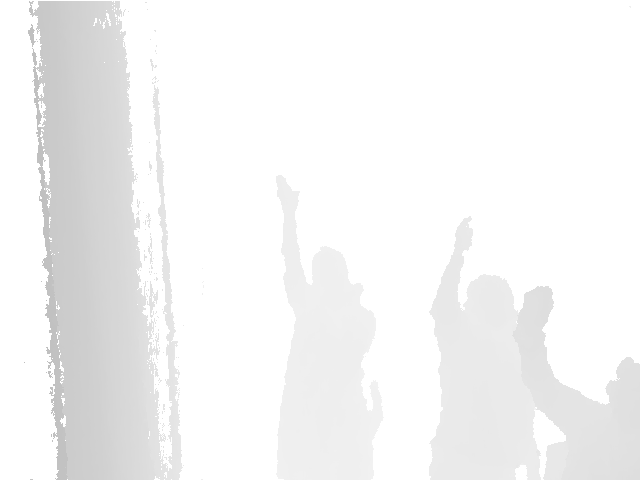hand: (517, 282, 556, 332), (273, 171, 303, 209), (450, 215, 477, 248)
head: (461, 274, 519, 337), (309, 245, 358, 299), (604, 356, 640, 413)
person: (273, 171, 379, 480), (426, 215, 534, 480), (515, 281, 638, 480)
